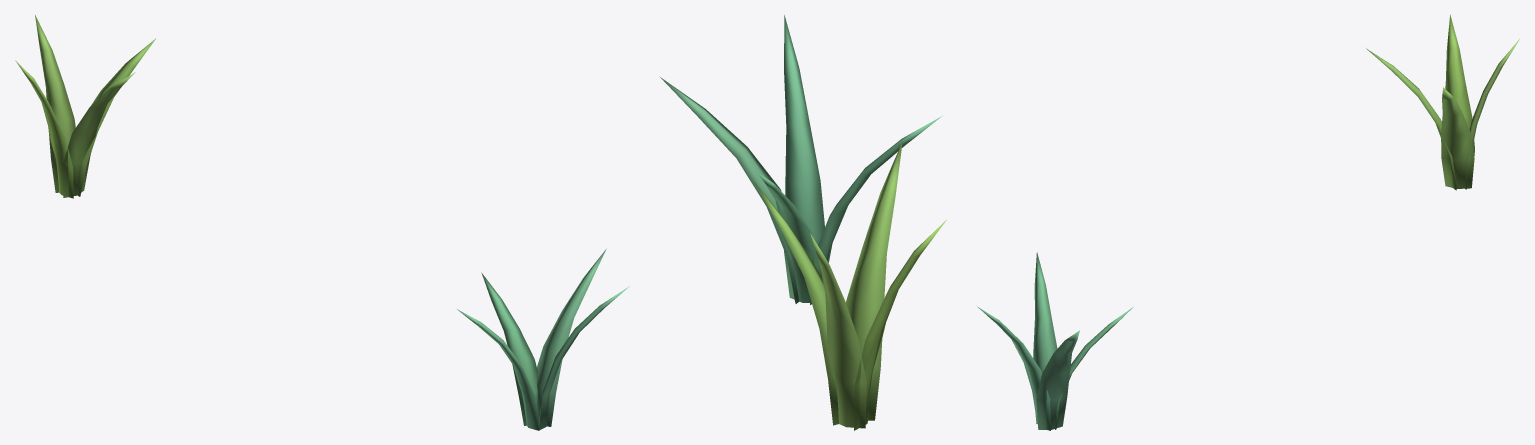
File: W1_FloraRing_7_11.fbx
3 views of the same model, side by side, from view 1: azimuth 30°, elevation 25°; view 2: azimuth 150°, elevation 25°; view 3: azimuth 270°, elevation 25° (orthographic). The views are drawn at different scales.
Visible parts, largest first — view 1: W1_FloraRing_7_11; view 2: W1_FloraRing_7_11; view 3: W1_FloraRing_7_11.
Part boxes in pixels (box(x1,y1,x2,y2)): W1_FloraRing_7_11: box(15, 15, 629, 430); W1_FloraRing_7_11: box(659, 15, 946, 430); W1_FloraRing_7_11: box(977, 14, 1519, 430).
Size of the model in its own units: 0.3433 by 0.2393 by 0.4334.
